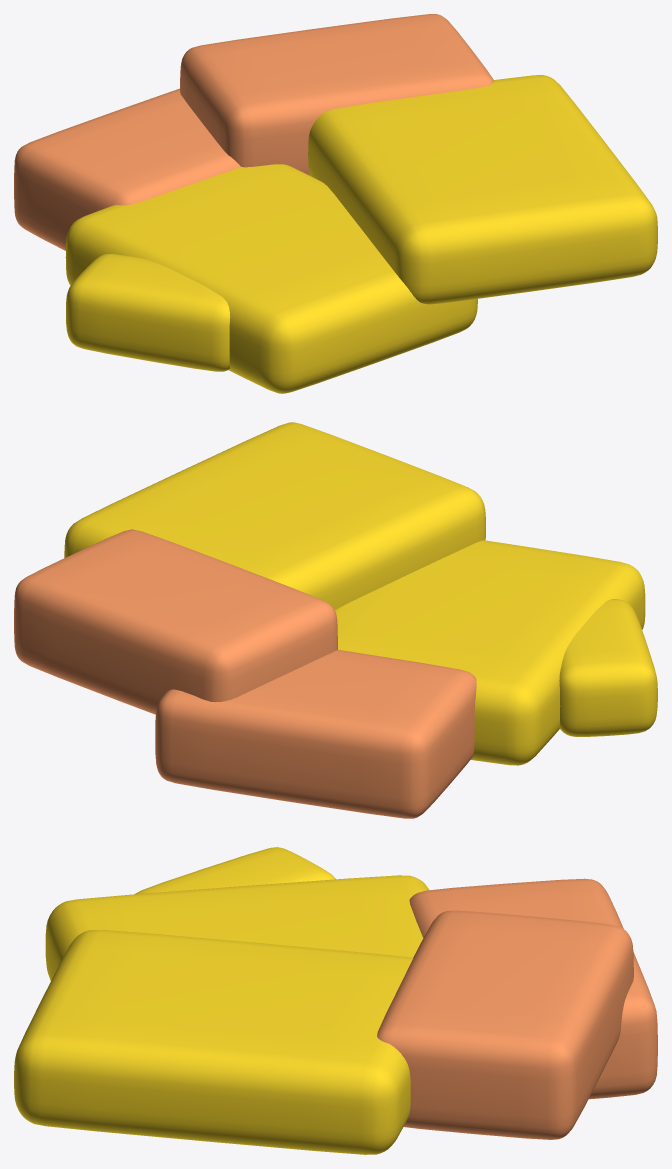
File: SM_WorkGloves.fbx
3 views of the same model, one above another, from view 1: azimuth 30°, elevation 25°; view 2: azimuth 150°, elevation 25°; view 3: azimuth 270°, elevation 25° (orthographic). The views are drawn at different scales.
Parts seen in each view (by area): view 1: SM_WorkGloves; view 2: SM_WorkGloves; view 3: SM_WorkGloves.
Part boxes in pixels (x1,y1,x2,y2): SM_WorkGloves: (14,14,657,393); SM_WorkGloves: (14,422,657,818); SM_WorkGloves: (14,847,657,1154).
Bounding box in the file's own units: 35.69 × 8.68 × 32.94.
